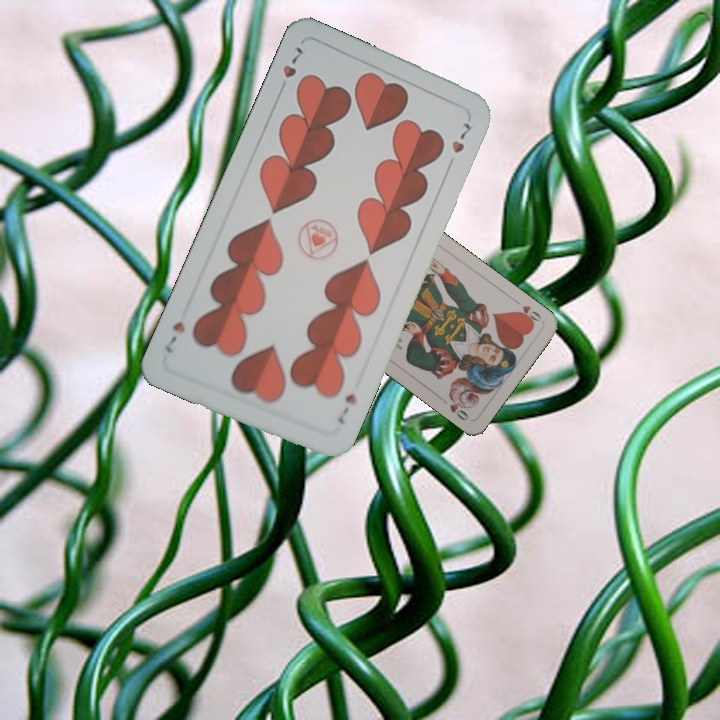H7: (274, 42, 307, 96), (333, 389, 360, 427)
HO: (513, 301, 544, 327)
